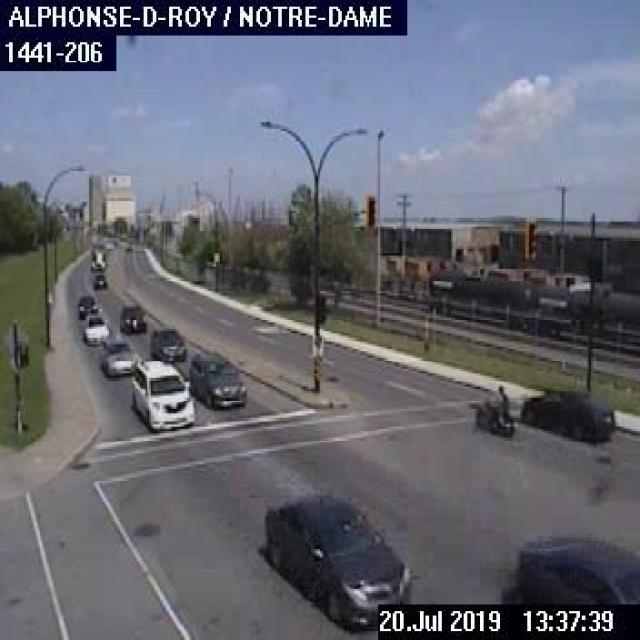vehicle: (260, 491, 413, 633), (500, 527, 638, 602), (520, 384, 616, 440), (127, 356, 194, 429), (186, 348, 249, 409), (473, 384, 516, 436), (98, 332, 139, 375), (148, 326, 188, 361), (116, 300, 150, 333), (80, 313, 111, 345), (75, 292, 97, 318), (88, 239, 106, 270), (87, 273, 109, 289)
